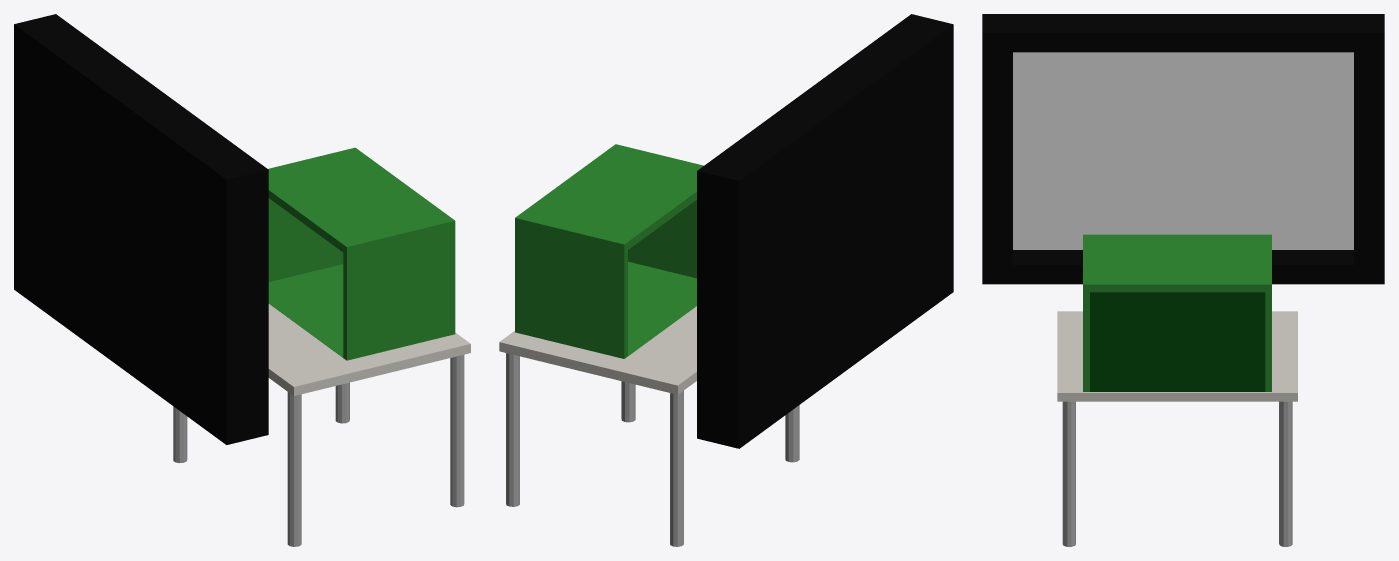
The model's file is Dibujo con Espejo.fbx.
3 views of the same model, side by side, from view 1: azimuth 30°, elevation 25°; view 2: azimuth 150°, elevation 25°; view 3: azimuth 270°, elevation 25° (orthographic). The views are drawn at different scales.
Parts seen in each view (by area): view 1: Case espejo dibujo, Caja dibujo, Mesa, Patas mesa dibujo; view 2: Case espejo dibujo, Caja dibujo, Mesa, Patas mesa dibujo; view 3: Espejo dibujo, Case espejo dibujo, Tapa vision espejo, Caja dibujo, Mesa, Patas mesa dibujo.
Part boxes in pixels (x1=…): Case espejo dibujo: x1=14, y1=14, x2=268, y2=444; Caja dibujo: x1=268, y1=147, x2=455, y2=360; Mesa: x1=268, y1=304, x2=470, y2=395; Patas mesa dibujo: x1=173, y1=354, x2=464, y2=546; Case espejo dibujo: x1=697, y1=14, x2=953, y2=448; Caja dibujo: x1=515, y1=144, x2=703, y2=358; Mesa: x1=499, y1=306, x2=696, y2=394; Patas mesa dibujo: x1=506, y1=353, x2=799, y2=546; Espejo dibujo: x1=1013, y1=52, x2=1353, y2=249; Case espejo dibujo: x1=982, y1=14, x2=1384, y2=284; Tapa vision espejo: x1=1090, y1=292, x2=1265, y2=391; Caja dibujo: x1=1083, y1=234, x2=1271, y2=391; Mesa: x1=1057, y1=311, x2=1297, y2=401; Patas mesa dibujo: x1=1062, y1=401, x2=1292, y2=546.
Size of the model in its own units: 207 by 159 by 228.
